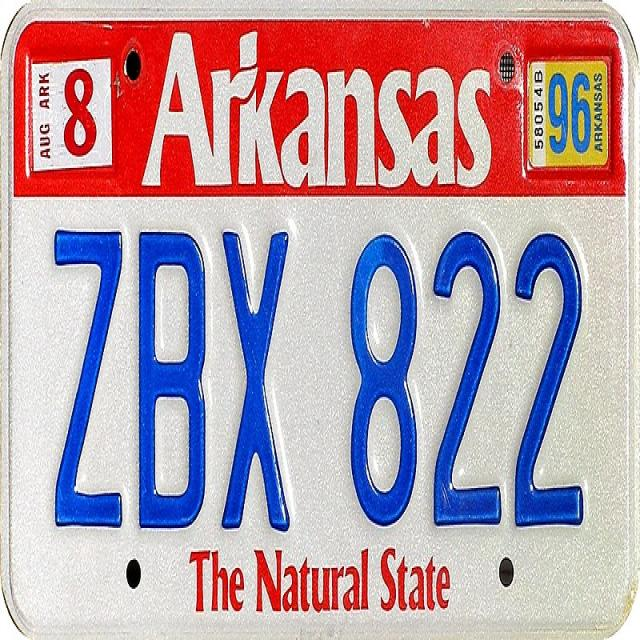placa: (10, 201, 628, 545)
